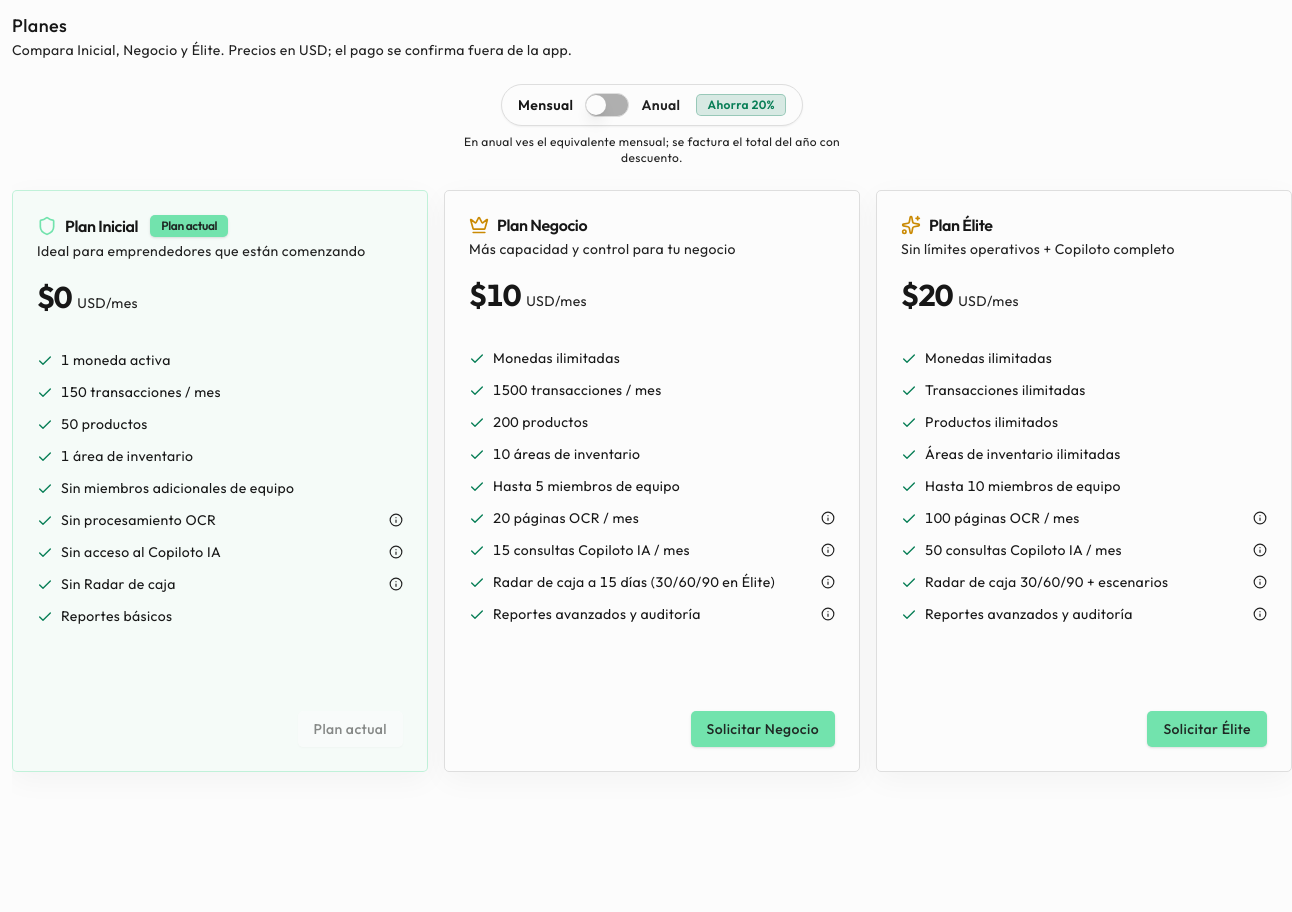
PlansPanel › toggles annual pricing display with USD currency
Check: the text "Ahorra 20%" is shown, box [696,94,786,116]
Click the switch named "Alternar pago anual" at {"x": 608, "y": 105}, box [586,93,630,117]
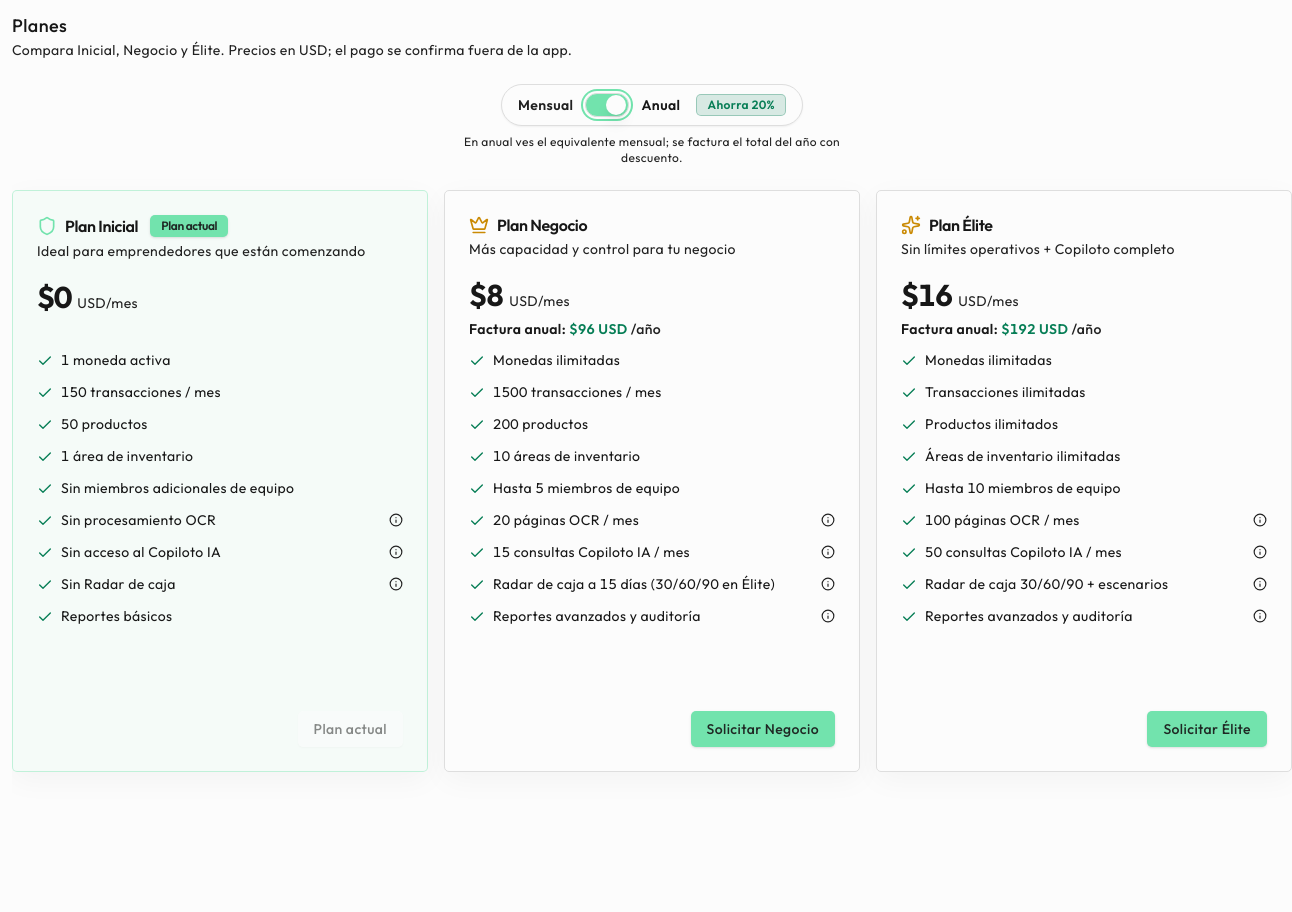
Check: the text "$96 USD" is shown, box [569,320,628,338]
Check: the text "$192 USD" is shown, box [1001,320,1068,338]
